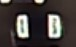COMP: (11, 9, 68, 43)
GAP: (16, 1, 44, 23)
STAN: (7, 28, 15, 47)
